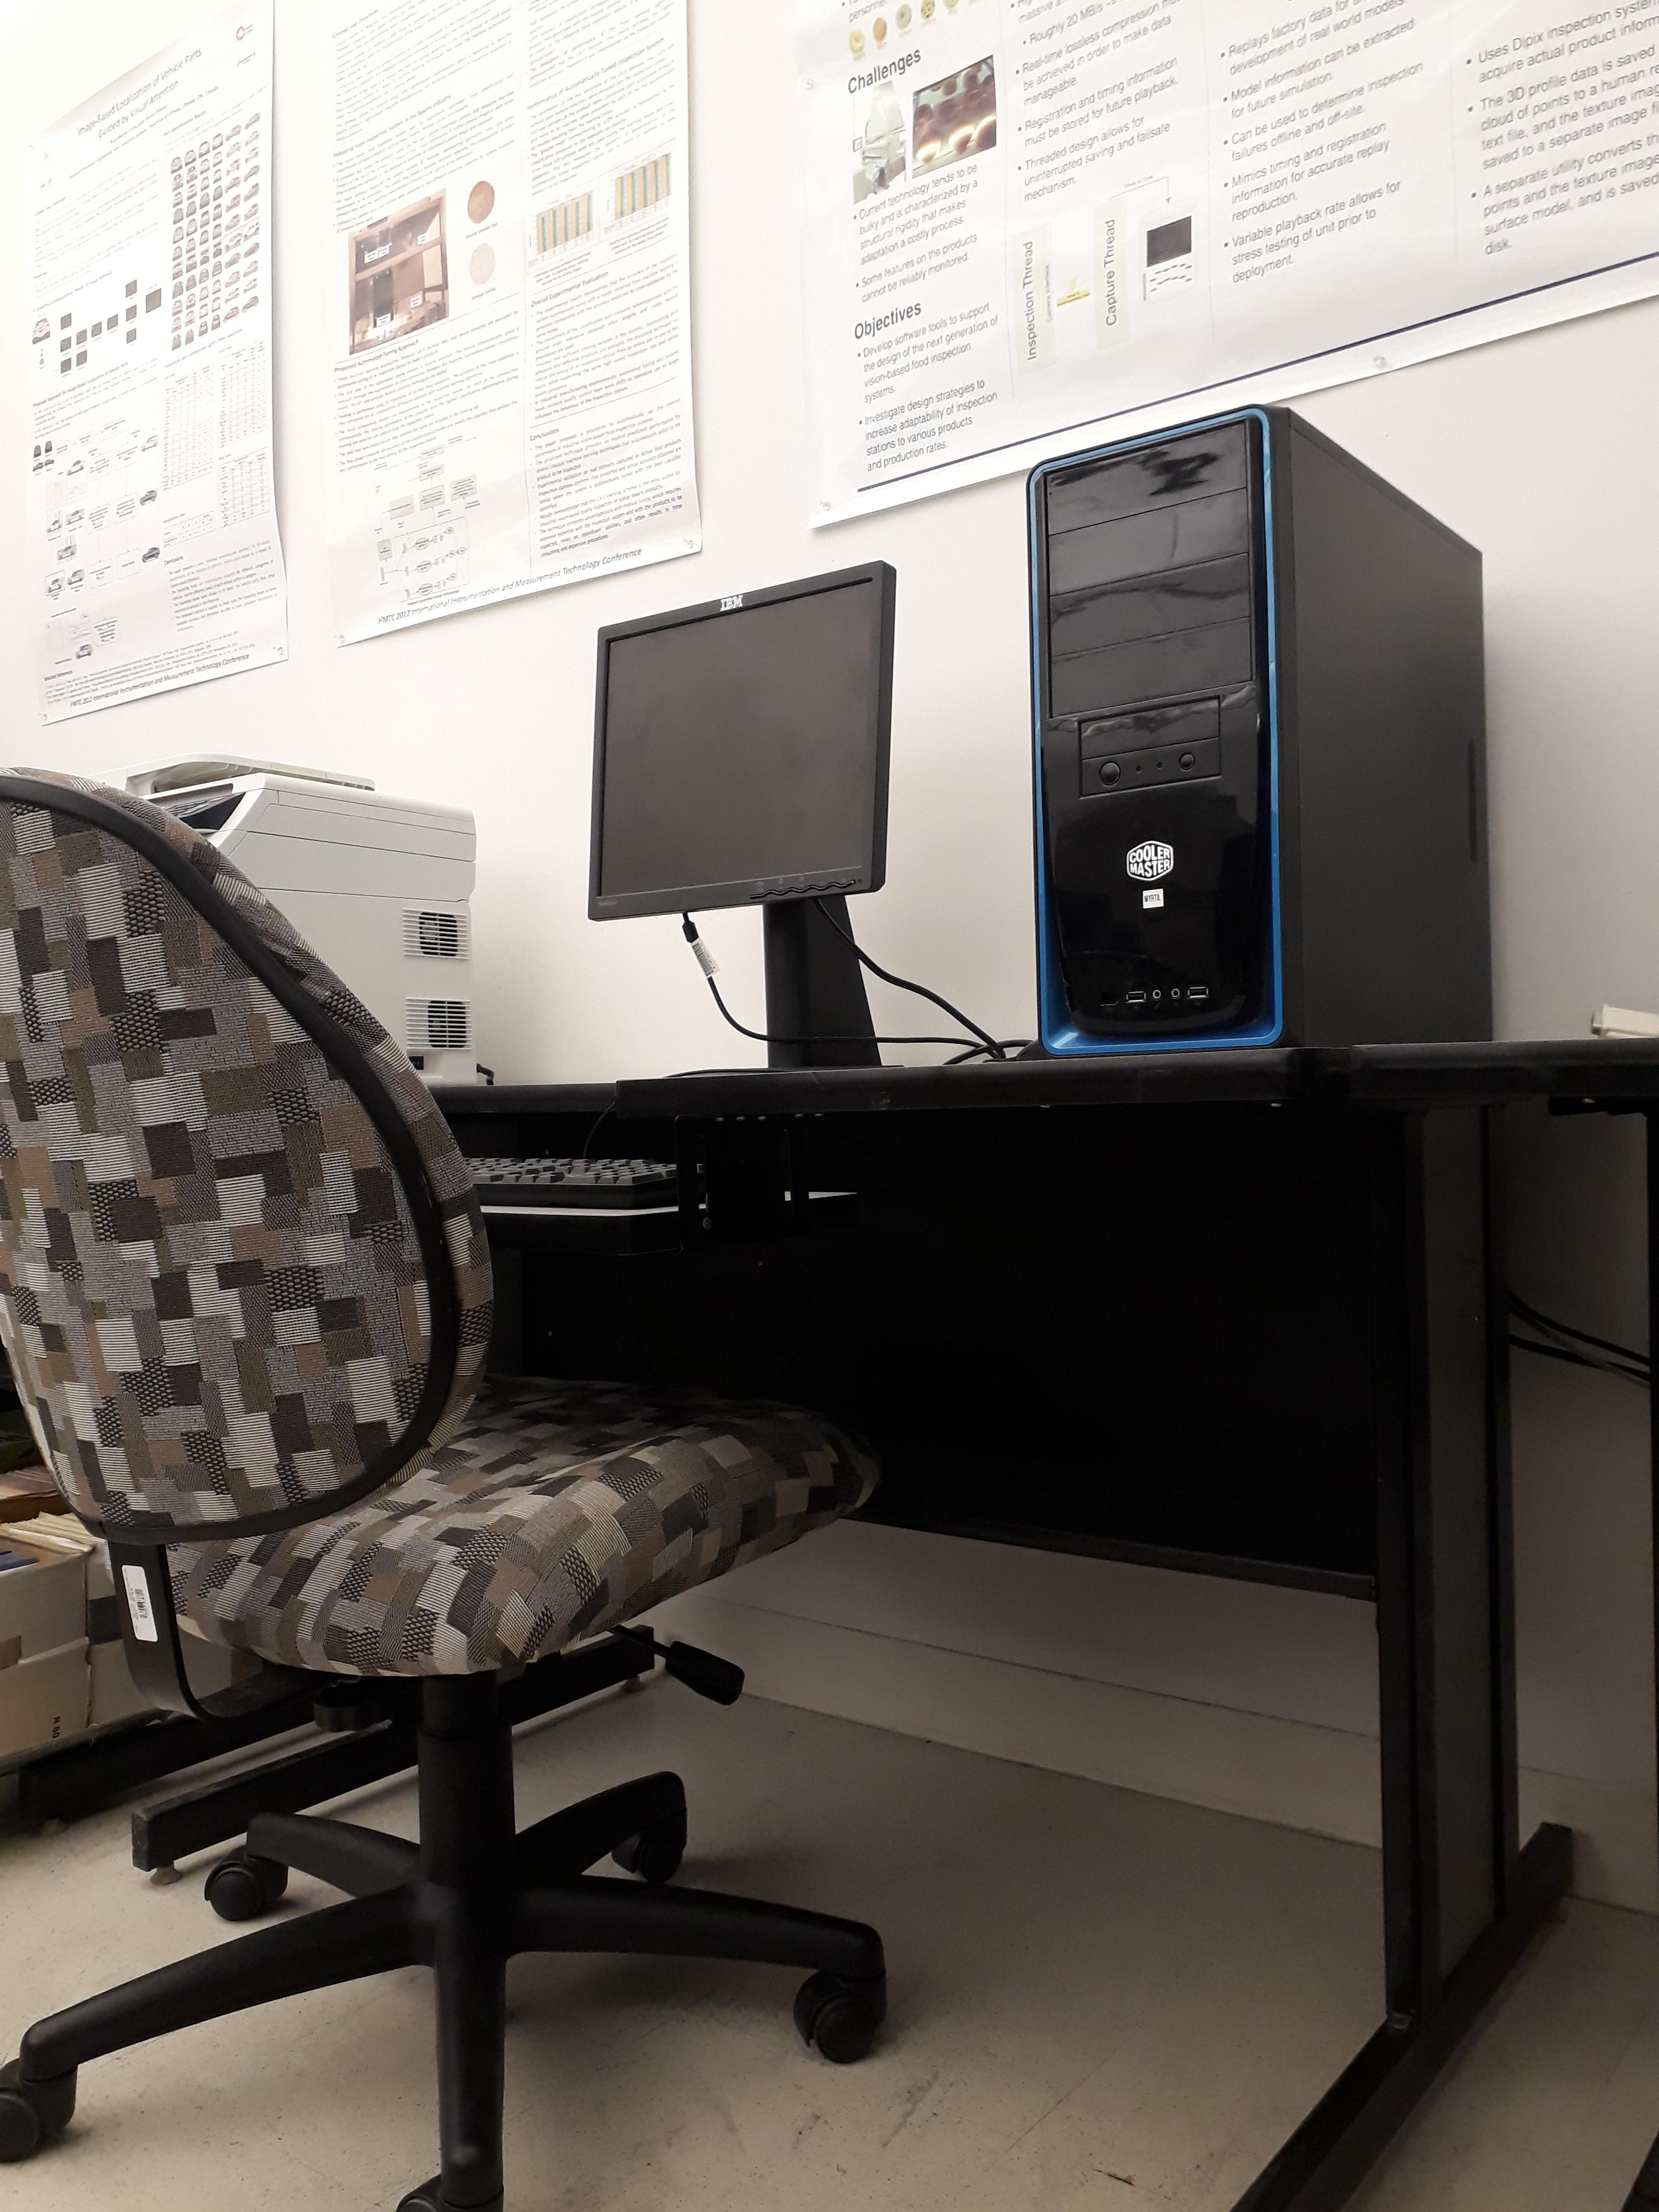tvmonitor: (592, 570, 878, 913)
